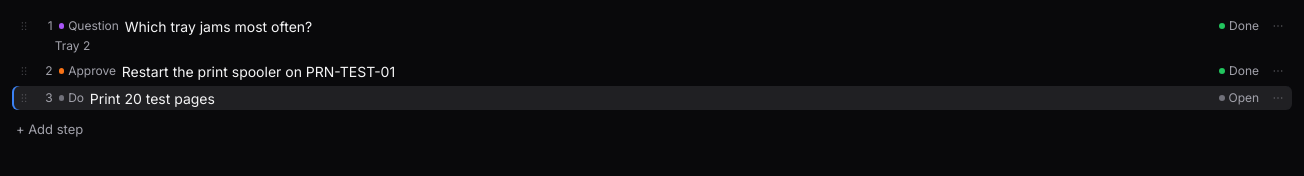
Test: StepList › a done Approve step offers no Reopen; a done Question step does
Expected: the button with aria-label "State:" is disabled, x1=1216 y1=62 x2=1263 y2=80
Expected: the button "Reopen" is not shown
Click the button with aria-label "State:".
click(1239, 26)  # box x1=1216 y1=17 x2=1263 y2=35
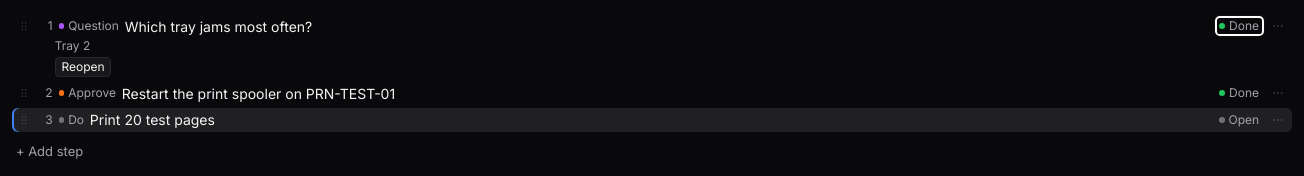
Result: the button "Reopen" is shown at x1=55 y1=57 x2=111 y2=77
